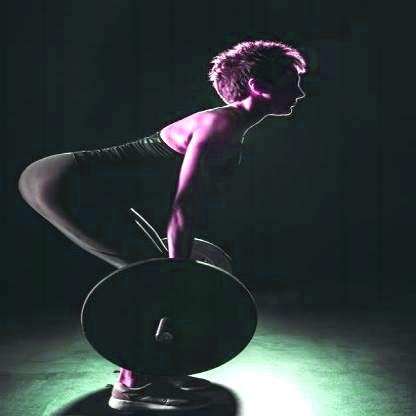Barbell: (143, 330, 170, 348)
